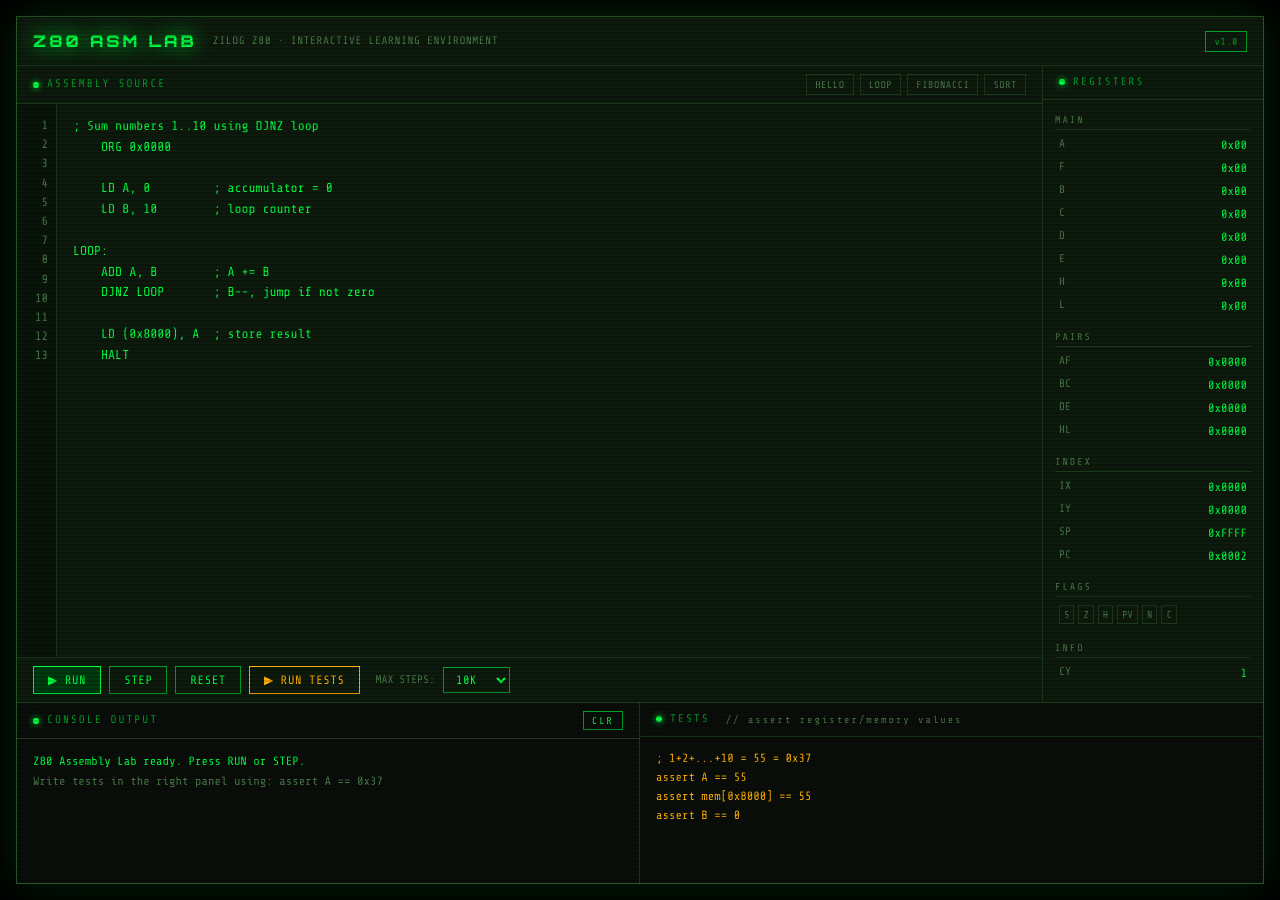
Test case: App - no-HALT warning (line 66) › shows "Stopped after" warning when code has no HALT
The width and height of the screenshot is (1280, 900).
Check: the button "▶ RUN" is shown, box top-left (33, 666), bottom-right (101, 694)
// Write an infinite loop with no HALT
Replace the text in the text box next to "1 2 3 4 5 6 7 8 9 10 11 12 13" with "JR 0" at (550,380), box top-left (57, 104), bottom-right (1042, 657)
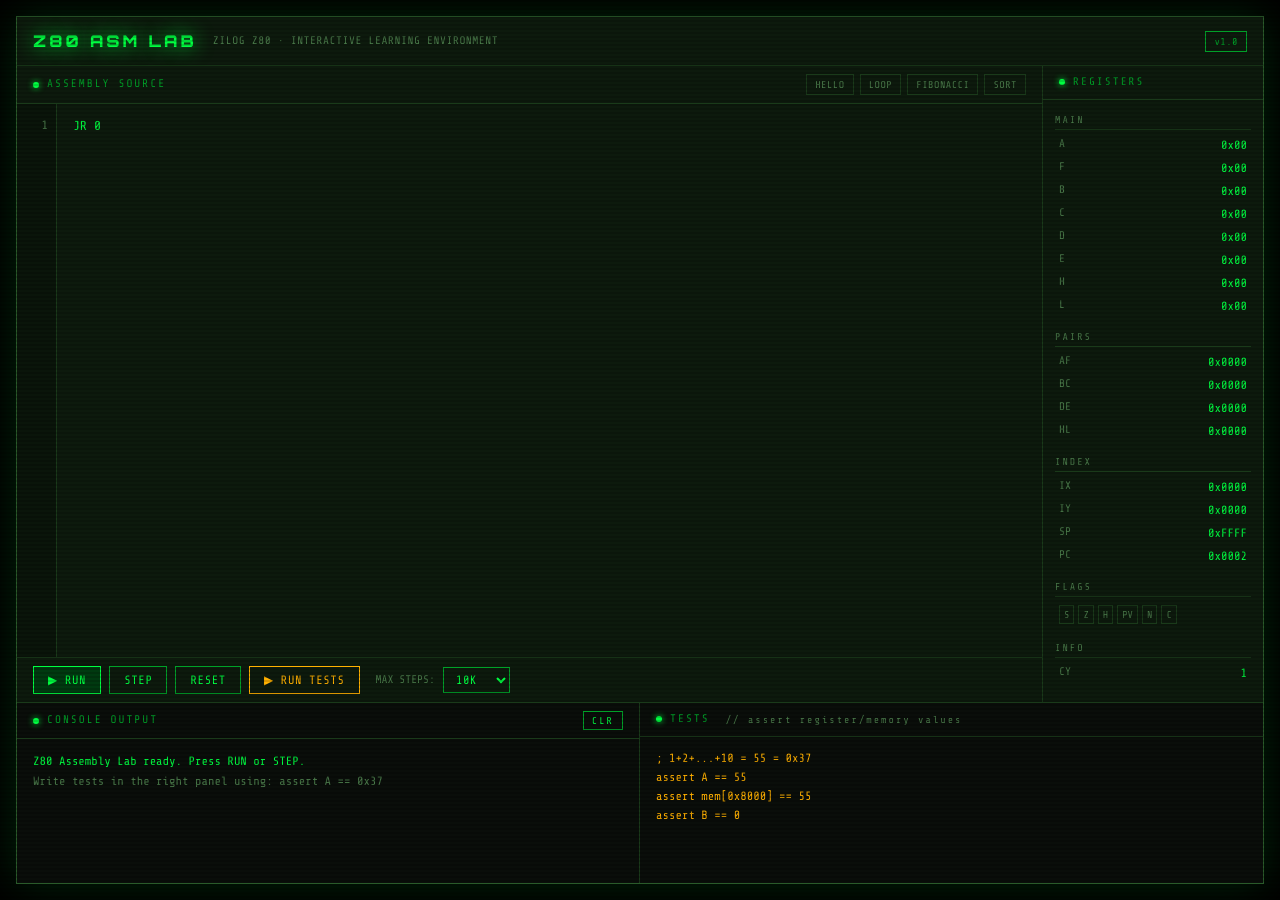
// Set max steps to 1K so the test runs fast
Select "1K" in the dropdown at (476,680), box top-left (443, 667), bottom-right (510, 693)
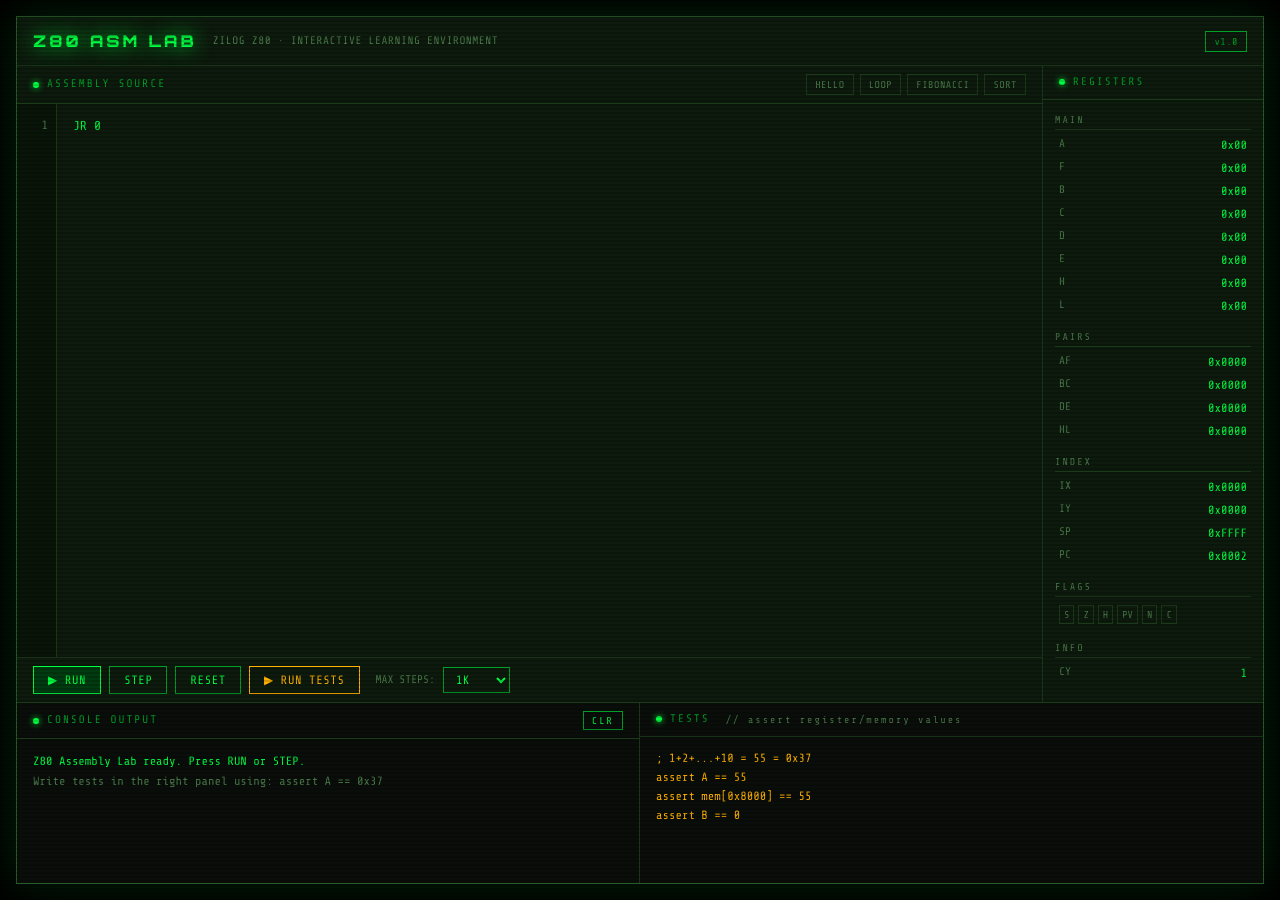
Click the button "▶ RUN" at (67,680), box top-left (33, 666), bottom-right (101, 694)
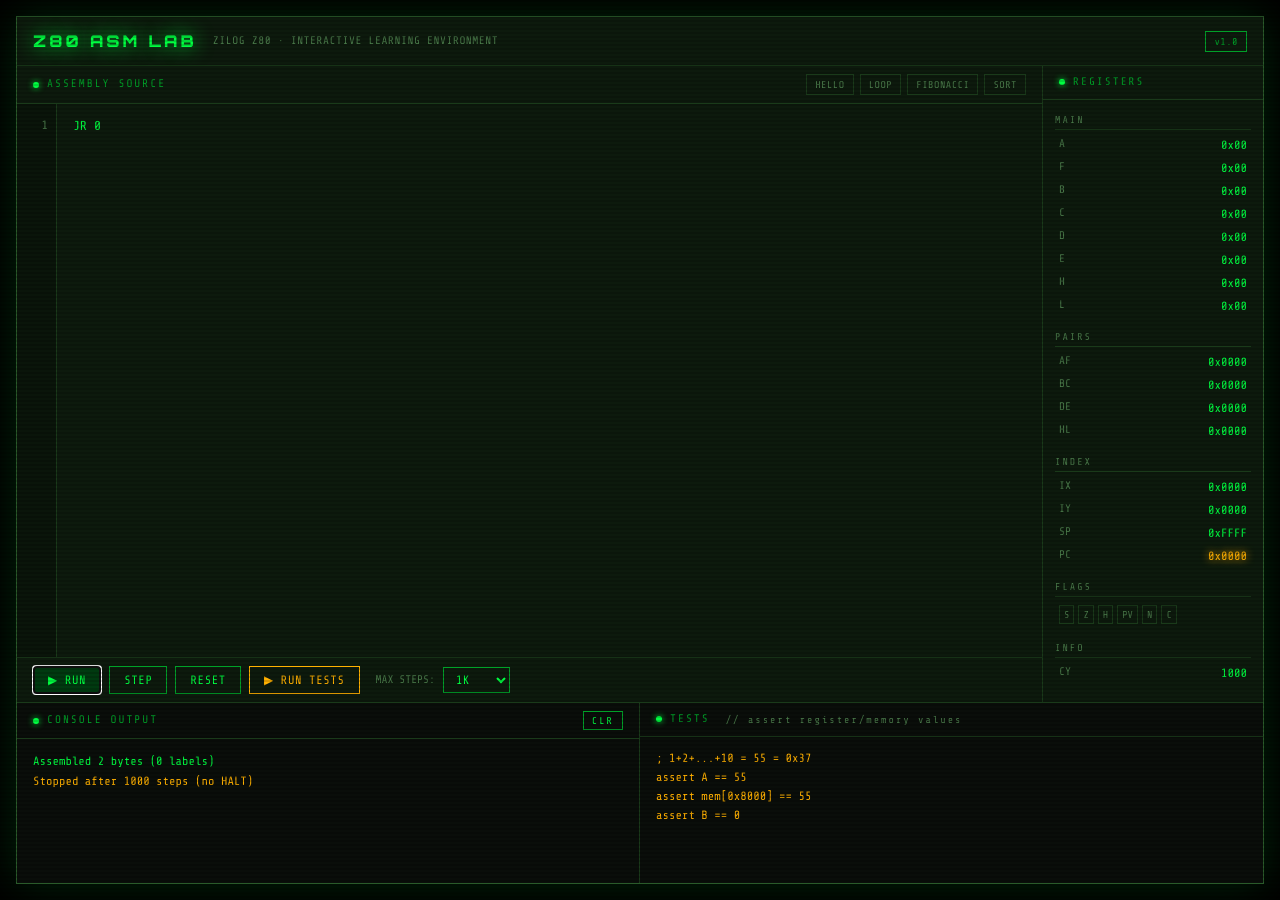
Check: the text "Stopped after 1000 steps (no HALT)" is shown, box top-left (33, 774), bottom-right (253, 788)
